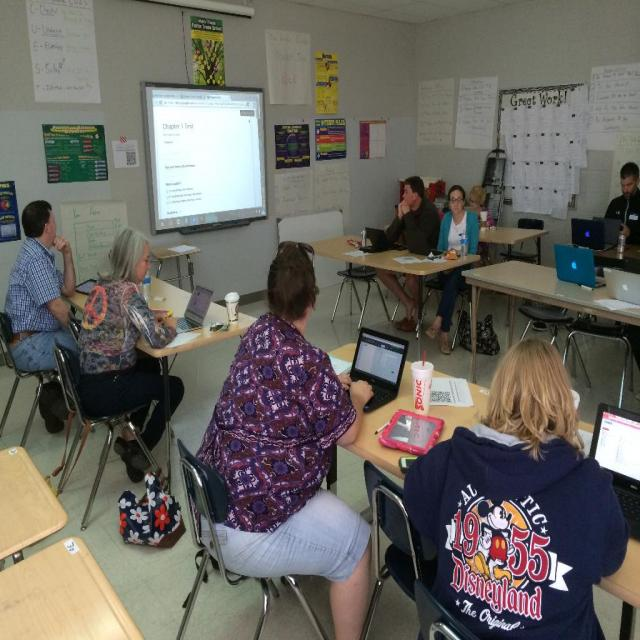chair: (175, 437, 330, 640), (51, 340, 153, 532), (0, 310, 44, 448), (277, 210, 344, 246), (506, 218, 546, 264)
desk: (324, 232, 504, 337)
laptop: (587, 400, 640, 542), (348, 326, 410, 412), (554, 243, 598, 289), (174, 284, 214, 334), (601, 269, 640, 306)
person: (194, 242, 374, 638), (400, 337, 632, 639), (73, 227, 186, 489), (4, 201, 78, 438), (421, 185, 481, 351), (383, 175, 441, 335), (603, 162, 640, 245)
tv: (140, 83, 268, 235)
